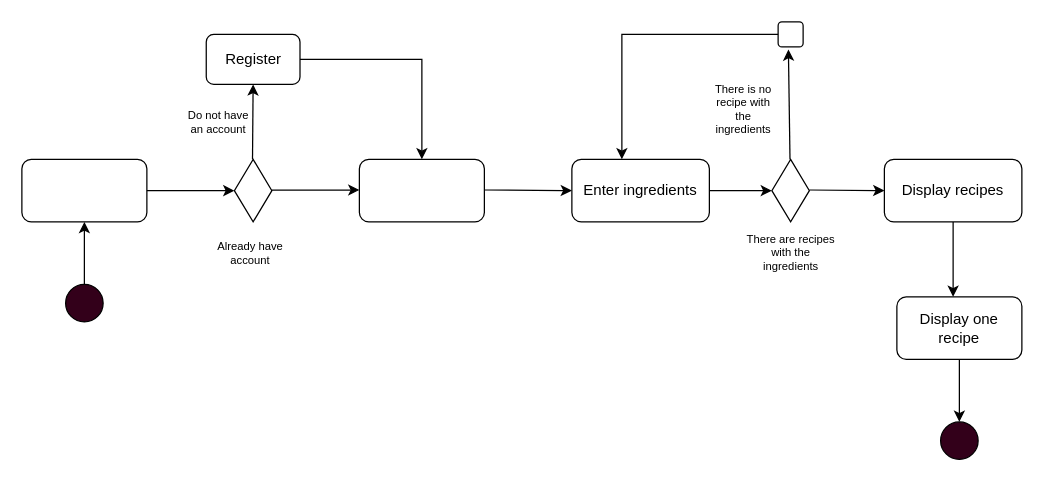
Image size: 1044x481. Some labels were removed from this diagram. Here are the shapes that lost their labels. From the top down, the centre of each, then its label:
(84,190): Login
(421,190): User profile
